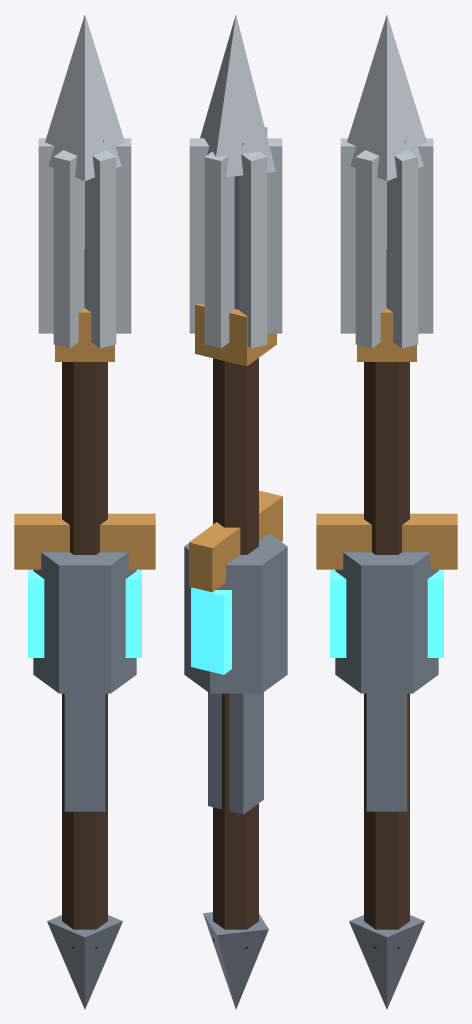
The model's file is weapon_pike.glb.
The picture shows the model from 3 angles, left to right: view 1: azimuth 90°, elevation 25°; view 2: azimuth 150°, elevation 25°; view 3: azimuth 270°, elevation 25°; orthographic projection.
Visible parts, largest first — view 1: shaft, chamber, tip, fin_0, fin_1, fin_2, chamber_fin, grip_wrap, butt, chamber_window, collar; view 2: shaft, chamber, fin_1, tip, grip_wrap, fin_0, fin_2, chamber_fin, chamber_window, butt, collar, head_core; view 3: shaft, chamber, tip, fin_0, fin_1, fin_2, chamber_fin, grip_wrap, butt, chamber_window, collar.
Boxes of the visible parts, bbox=[...] form: shaft: bbox=[62, 249, 107, 949]; chamber: bbox=[33, 552, 136, 693]; tip: bbox=[45, 15, 124, 181]; fin_0: bbox=[38, 138, 131, 333]; fin_1: bbox=[85, 150, 116, 348]; fin_2: bbox=[53, 150, 84, 348]; chamber_fin: bbox=[14, 513, 155, 569]; grip_wrap: bbox=[64, 693, 105, 811]; butt: bbox=[47, 915, 122, 1009]; chamber_window: bbox=[28, 569, 141, 657]; collar: bbox=[55, 308, 114, 361]; shaft: bbox=[213, 358, 258, 949]; chamber: bbox=[184, 533, 287, 693]; fin_1: bbox=[189, 138, 282, 333]; tip: bbox=[200, 15, 275, 177]; grip_wrap: bbox=[208, 692, 263, 814]; fin_0: bbox=[204, 126, 267, 348]; fin_2: bbox=[238, 152, 267, 348]; chamber_fin: bbox=[189, 490, 282, 592]; chamber_window: bbox=[191, 587, 231, 674]; butt: bbox=[203, 912, 268, 1009]; collar: bbox=[195, 304, 276, 366]; head_core: bbox=[210, 135, 243, 309]; shaft: bbox=[364, 249, 409, 949]; chamber: bbox=[335, 552, 438, 693]; tip: bbox=[347, 15, 426, 181]; fin_0: bbox=[340, 138, 433, 333]; fin_1: bbox=[387, 150, 418, 348]; fin_2: bbox=[355, 150, 386, 348]; chamber_fin: bbox=[316, 513, 457, 569]; grip_wrap: bbox=[366, 693, 407, 811]; butt: bbox=[349, 915, 424, 1009]; chamber_window: bbox=[330, 569, 443, 657]; collar: bbox=[357, 308, 416, 361].
Size of the model in its own units: 0.17 by 2.02 by 0.26.
